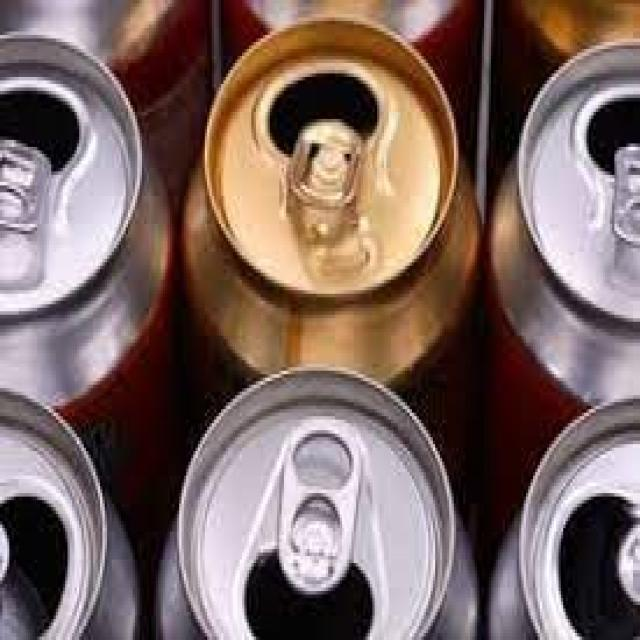Metal: (488, 42, 640, 553), (186, 367, 454, 640), (208, 23, 461, 311), (0, 38, 138, 313)
